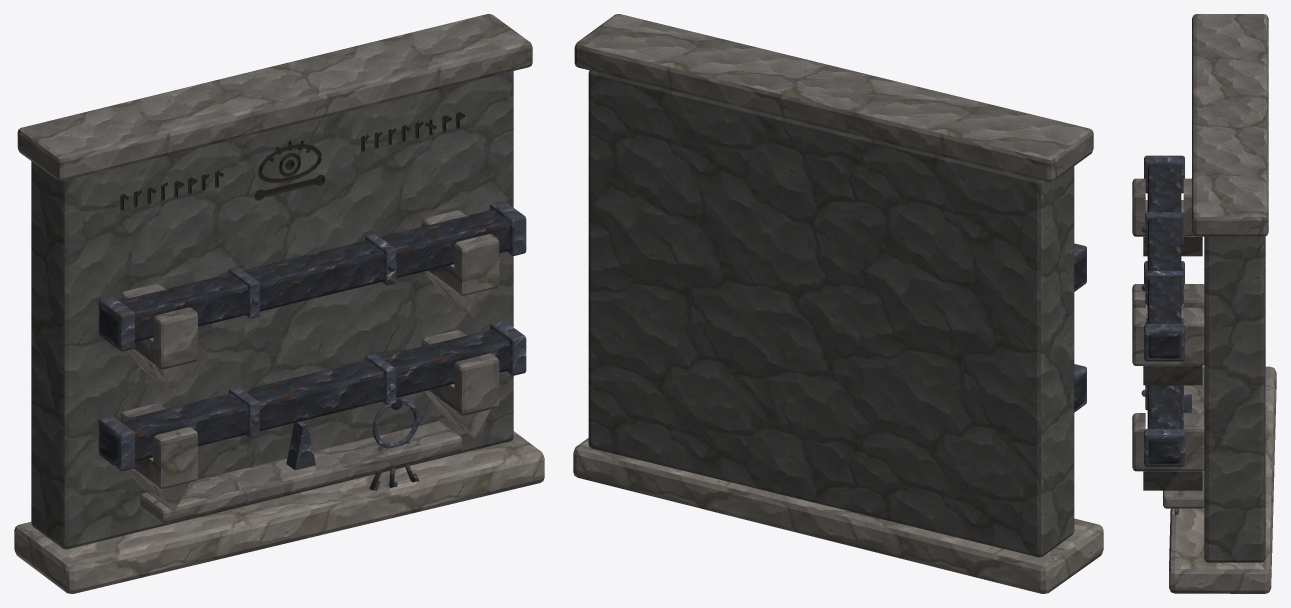
The model's file is vo_bar_rack.glb.
The picture shows the model from 3 angles, left to right: view 1: azimuth 30°, elevation 25°; view 2: azimuth 150°, elevation 25°; view 3: azimuth 270°, elevation 25°; orthographic projection. The views are drawn at different scales.
Visible parts, largest first — view 1: model; view 2: model; view 3: model.
Boxes of the visible parts, bbox=[...] form: model: bbox=[14, 14, 544, 593]; model: bbox=[573, 14, 1103, 593]; model: bbox=[1132, 14, 1276, 593].
Bounding box in the file's own units: 1.58 × 1.37 × 0.471.
Materials: 7 (6 with a texture image).
